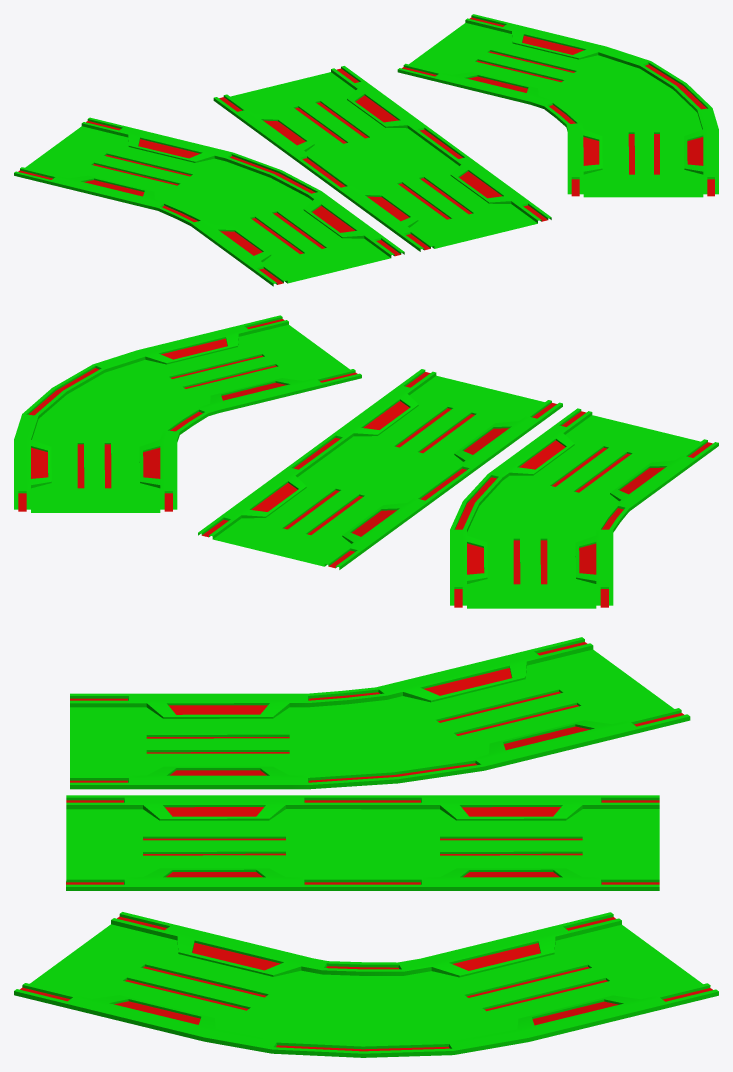
Rendered from Roads2.fbx.
3 renders of one model, top to bottom at view 1: azimuth 30°, elevation 25°; view 2: azimuth 150°, elevation 25°; view 3: azimuth 270°, elevation 25°, orthographic. The views are drawn at different scales.
Parts seen in each view (by area): view 1: Straight_Track2, Straight_Track1, Straight_Track; view 2: Straight_Track2, Straight_Track1, Straight_Track; view 3: Straight_Track2, Straight_Track1, Straight_Track.
Part boxes in pixels (x1=…): Straight_Track2: x1=397, y1=14, x2=718, y2=197; Straight_Track1: x1=14, y1=117, x2=404, y2=286; Straight_Track: x1=213, y1=66, x2=551, y2=251; Straight_Track2: x1=14, y1=315, x2=361, y2=512; Straight_Track1: x1=450, y1=408, x2=718, y2=608; Straight_Track: x1=198, y1=369, x2=562, y2=569; Straight_Track2: x1=14, y1=912, x2=718, y2=1057; Straight_Track1: x1=70, y1=637, x2=690, y2=789; Straight_Track: x1=66, y1=795, x2=659, y2=890.
Bounding box in the file's own units: 7284 × 51.08 × 5209.
